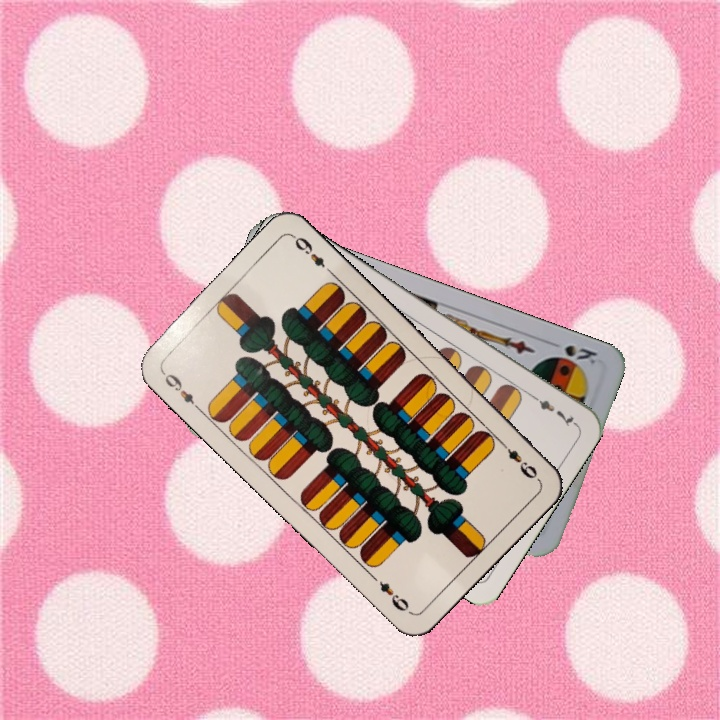E7: (526, 390, 579, 430)
E9: (495, 436, 542, 483), (157, 367, 203, 413)
SK: (560, 340, 601, 367)
